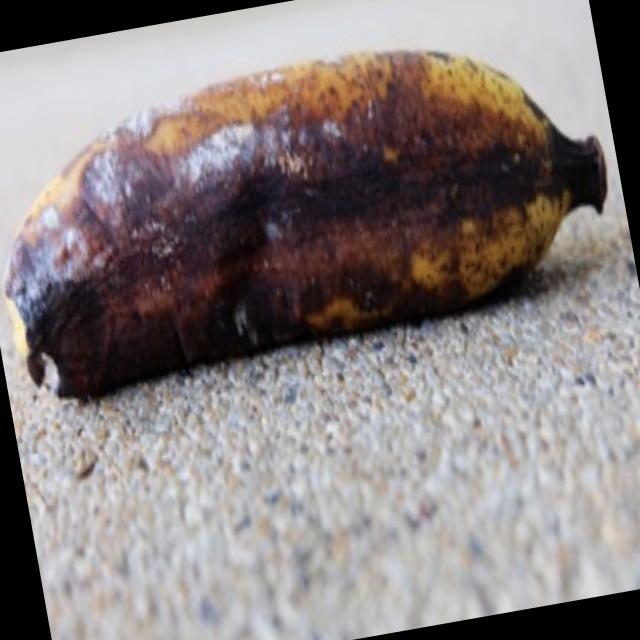rotten-banana: (0, 9, 610, 405)
